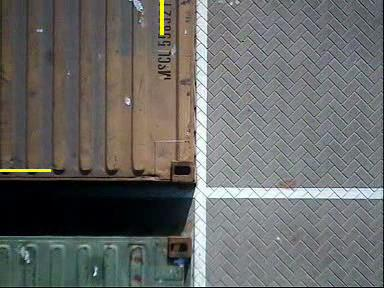groundmarker_2: (190, 154, 247, 235)
